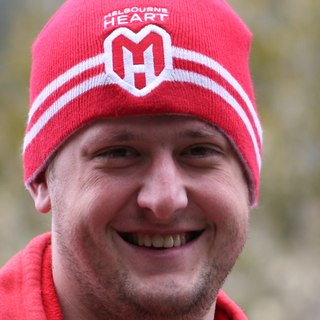eye: (91, 141, 144, 165), (178, 140, 226, 164)
